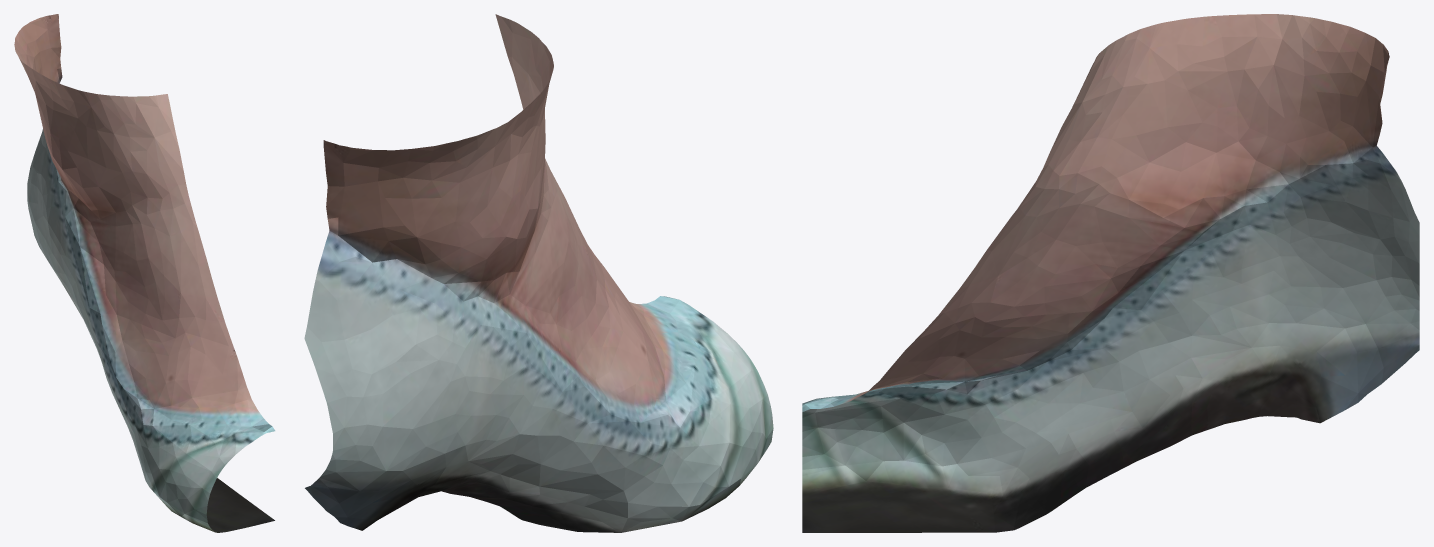
3 views of the same model, side by side, from view 1: azimuth 30°, elevation 25°; view 2: azimuth 150°, elevation 25°; view 3: azimuth 270°, elevation 25° (orthographic). The views are drawn at different scales.
Size of the model in its own units: 34.44 by 144 by 171.
1 material, 1 textured.
